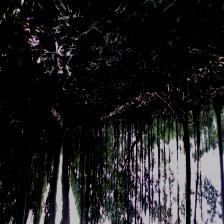trunk: (17, 145, 38, 220), (52, 124, 67, 211), (180, 121, 190, 221), (214, 105, 224, 176), (80, 124, 87, 218)
